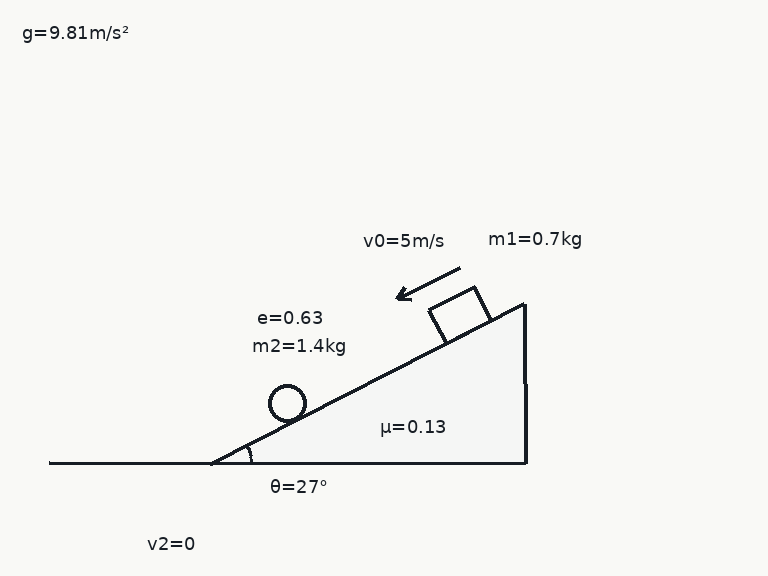ball: (266, 382, 308, 424)
block: (427, 285, 493, 346)
ramp: (209, 301, 527, 465)
